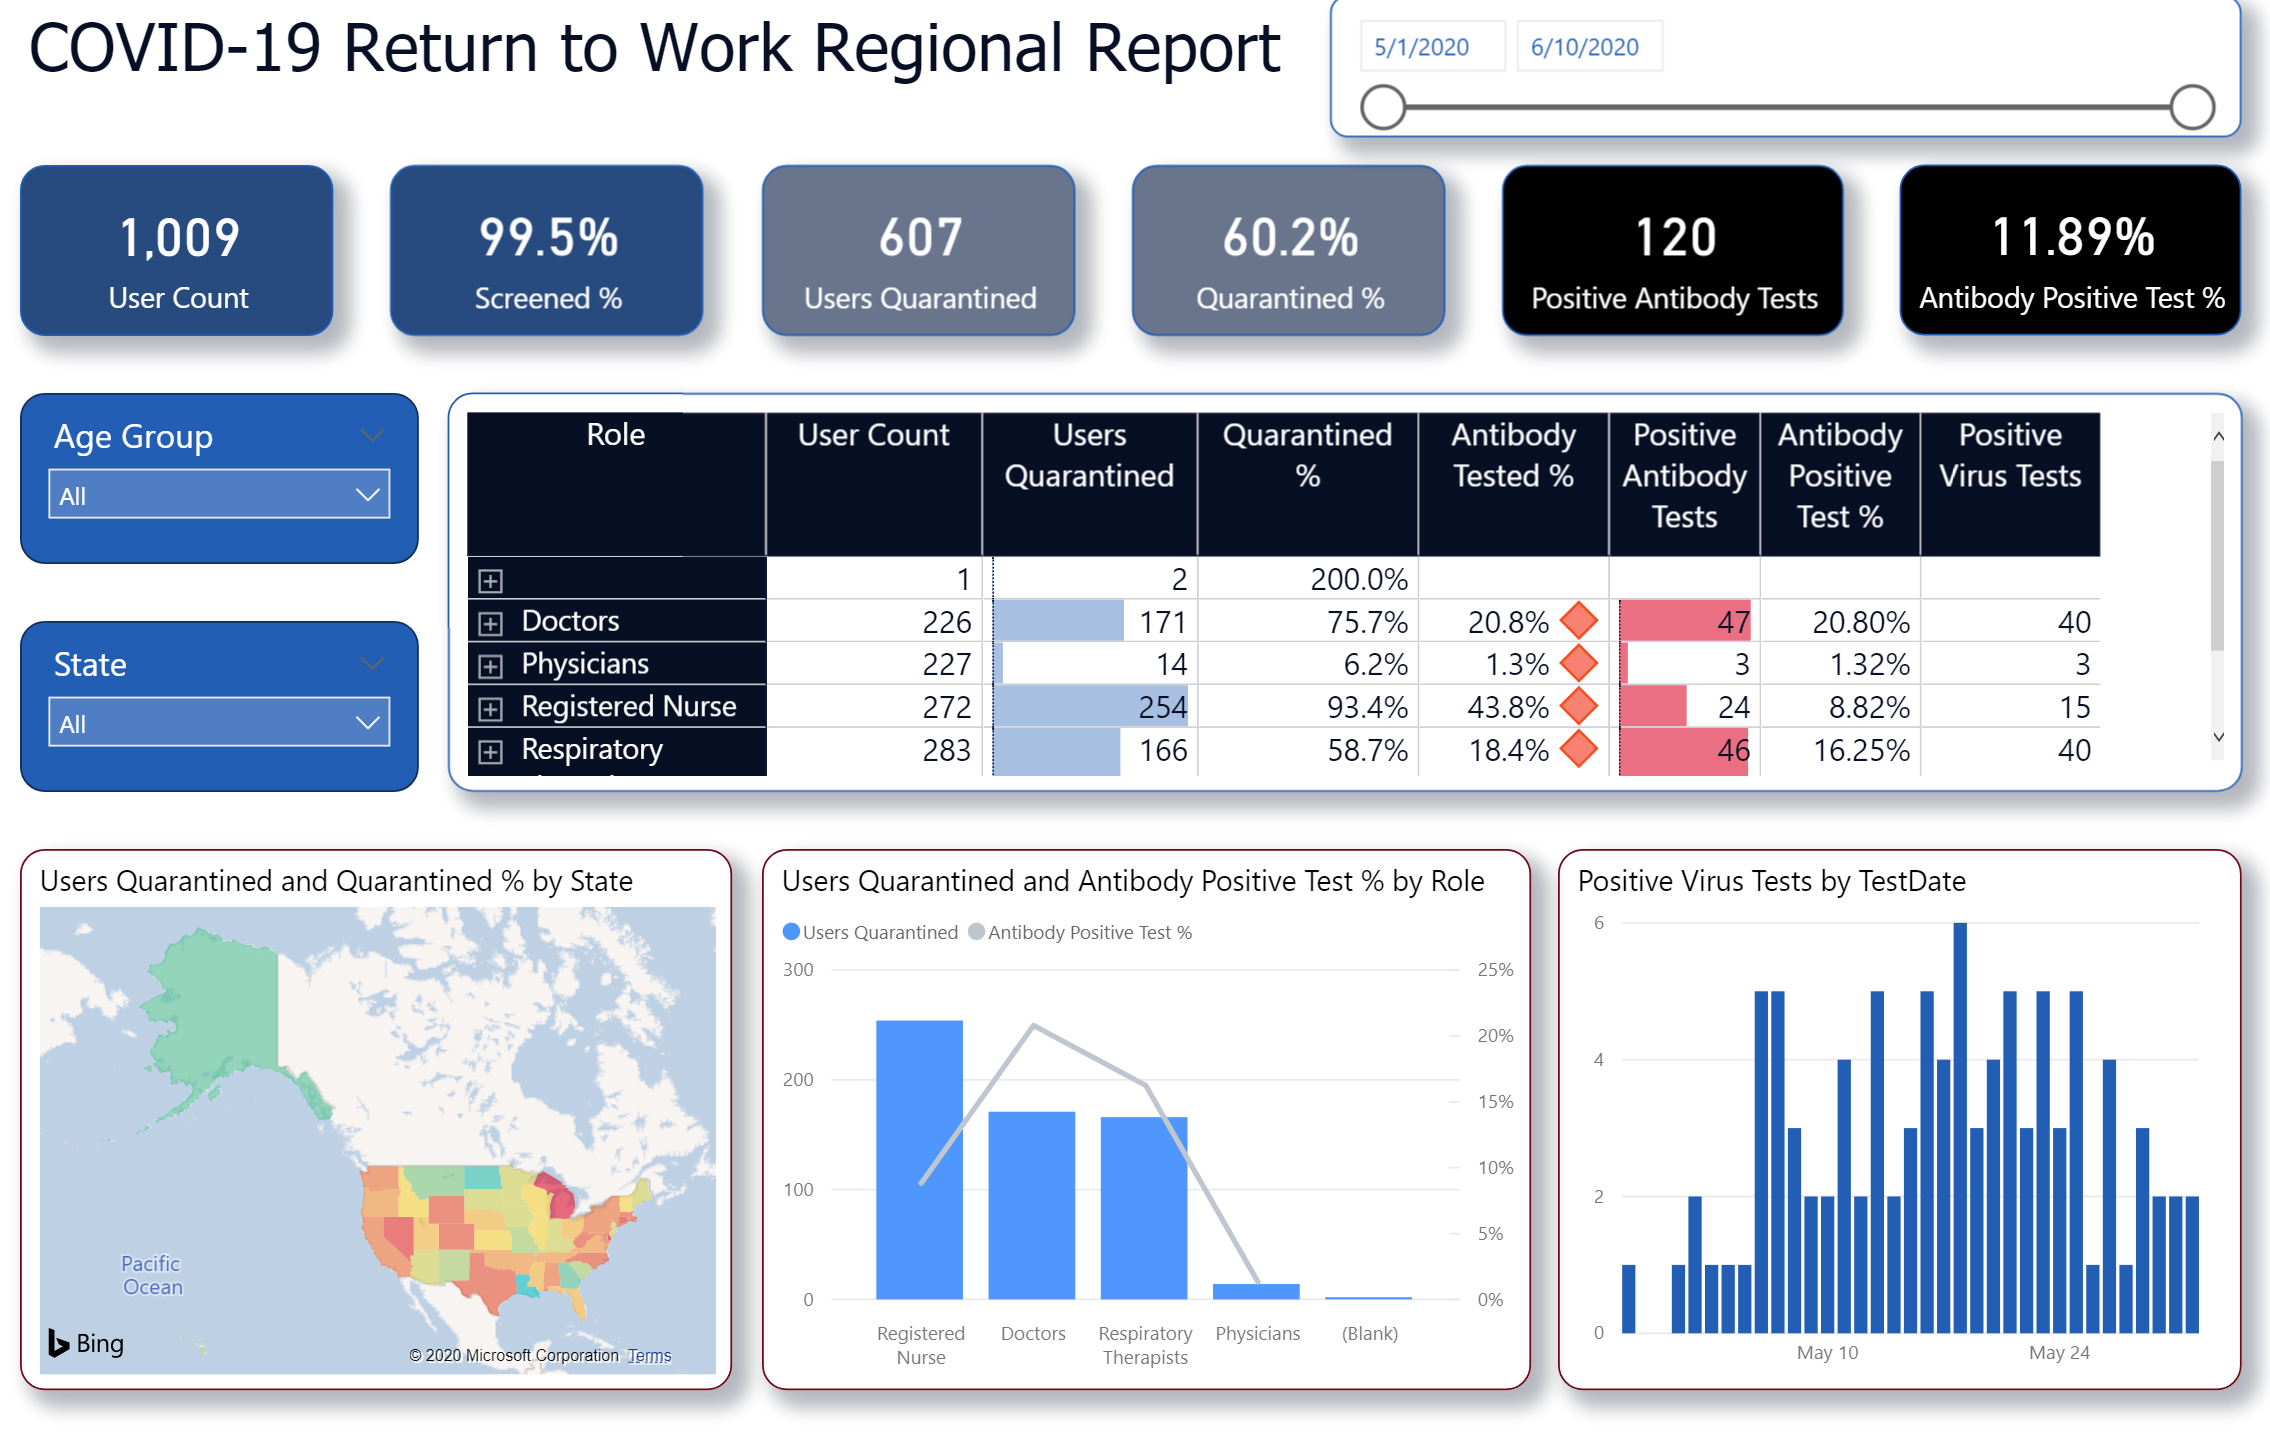

This screenshot's page, from the dashboard's own definition file:
{"tool":"powerbi","page":{"name":"Quarantine","canvas":[1280,820],"ordinal":2},"visuals":[{"type":"lineStackedColumnComboChart","fields":{"Category":["Date.Date"],"Y":["Calculations.Antibody Test Count"]},"box":[880,448,384,336],"z":0},{"type":"filledMap","fields":{"Category":["UserInfo.State"]},"box":[16,448,400,336],"z":1000},{"type":"lineStackedColumnComboChart","fields":{"Y":["Calculations.Users Quarantined"],"Category":["UserInfo.Role"],"Y2":["Calculations.Antibody Positive Test %"],"Series":["Days in Quarantine.Quarantine Week"]},"box":[432,448,432,336],"z":2000},{"type":"textbox","box":[192,0,1072,80],"z":3000},{"type":"pivotTable","fields":{"Values":["Calculations.User Count","Calculations.Users Quarantined","Calculations.Quarantined %","Calculations.Antibody Test %","Calculations.Positive Antibody Tests","Calculations.Positive Antibody %","Calculations.Median Days in Quarantine"],"Rows":["UserInfo.Role","UserInfo.State","UserInfo.ZipCode"]},"box":[256,208,1008,224],"z":4000},{"type":"slicer","fields":{"Values":["Age Groups.Age Group"]},"box":[16,208,224,96],"z":5000},{"type":"slicer","fields":{"Values":["UserInfo.State"]},"box":[16,336,224,96],"z":6000},{"type":"card","fields":{"Values":["Calculations.User Count"]},"box":[16,80,176,96],"z":7000},{"type":"card","fields":{"Values":["Calculations.Users Quarrantined"]},"box":[432,80,176,96],"z":8000},{"type":"card","fields":{"Values":["Calculations.Screened %"]},"box":[224,80,176,96],"z":9000},{"type":"card","fields":{"Values":["Calculations.Quarantined %"]},"box":[640,80,176,96],"z":10000},{"type":"card","fields":{"Values":["Calculations.Positive Antibody %"]},"box":[1072,80,192,96],"z":11000},{"type":"card","fields":{"Values":["Calculations.Positive Antibody Tests"]},"box":[848,80,192,96],"z":12000}]}

Visuals, with their boxes in screenshot pixels (x1, y1, x2, y2), scaled from the page's 1280x820 canvas onto the 2270x1449 screenshot:
lineStackedColumnComboChart - Date.Date x Calculations.Antibody Test Count: BBox(1561, 792, 2242, 1385)
filledMap - UserInfo.State: BBox(28, 792, 738, 1385)
lineStackedColumnComboChart - Calculations.Users Quarantined x UserInfo.Role: BBox(766, 792, 1532, 1385)
textbox: BBox(340, 0, 2242, 141)
pivotTable - Calculations.User Count x Calculations.Users Quarantined: BBox(454, 368, 2242, 763)
slicer - Age Groups.Age Group: BBox(28, 368, 426, 537)
slicer - UserInfo.State: BBox(28, 594, 426, 763)
card - Calculations.User Count: BBox(28, 141, 340, 311)
card - Calculations.Users Quarrantined: BBox(766, 141, 1078, 311)
card - Calculations.Screened %: BBox(397, 141, 709, 311)
card - Calculations.Quarantined %: BBox(1135, 141, 1447, 311)
card - Calculations.Positive Antibody %: BBox(1901, 141, 2242, 311)
card - Calculations.Positive Antibody Tests: BBox(1504, 141, 1844, 311)
